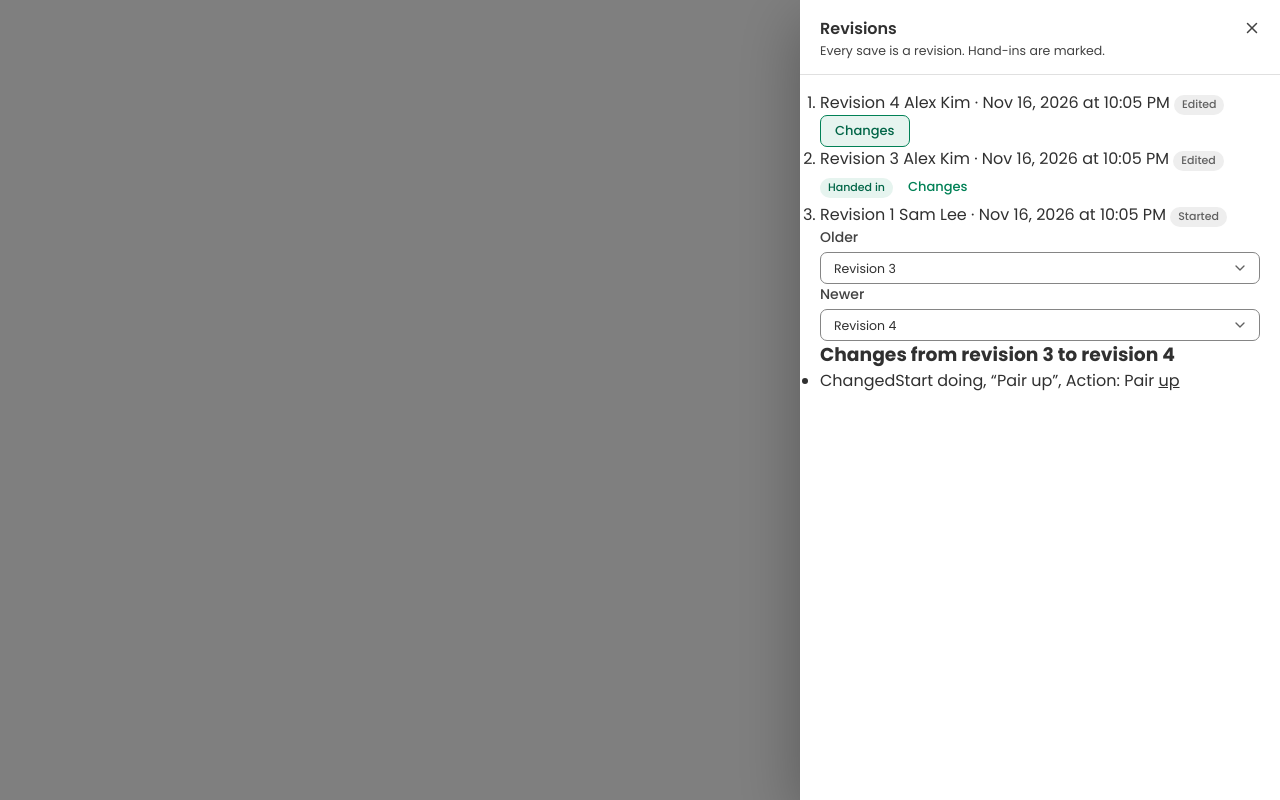
it: RevisionsDrawer › compares any two revisions picked
The image size is (1280, 800).
expect the heading "Changes from revision 3 to revision 4" is shown: met, box x1=820 y1=341 x2=1175 y2=368
Click the button named "Changes in revision 3": (938, 187) x1=893 y1=171 x2=982 y2=203
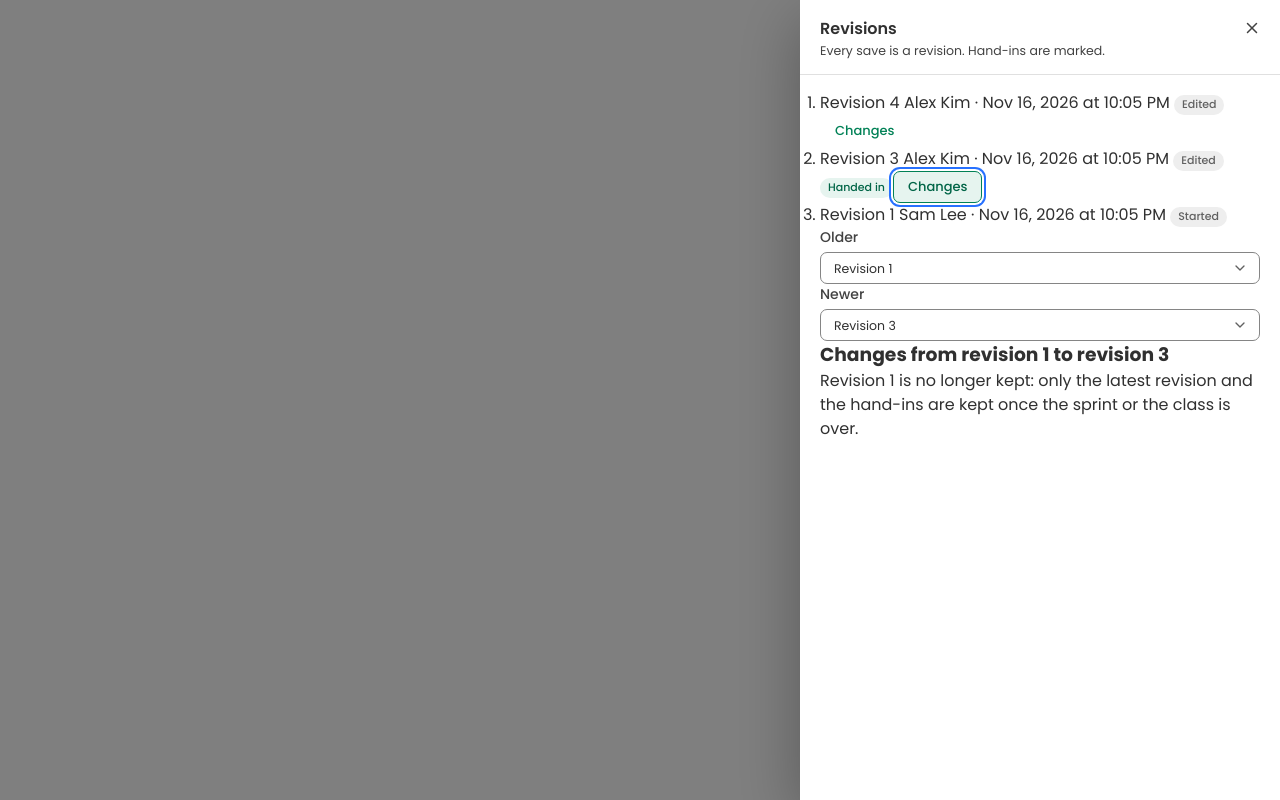
expect the heading "Changes from revision 1 to revision 3" is shown: met, box x1=820 y1=341 x2=1169 y2=368
Select "Revision 4" in the dropdown labelled "Older": (1040, 268) x1=820 y1=252 x2=1260 y2=284
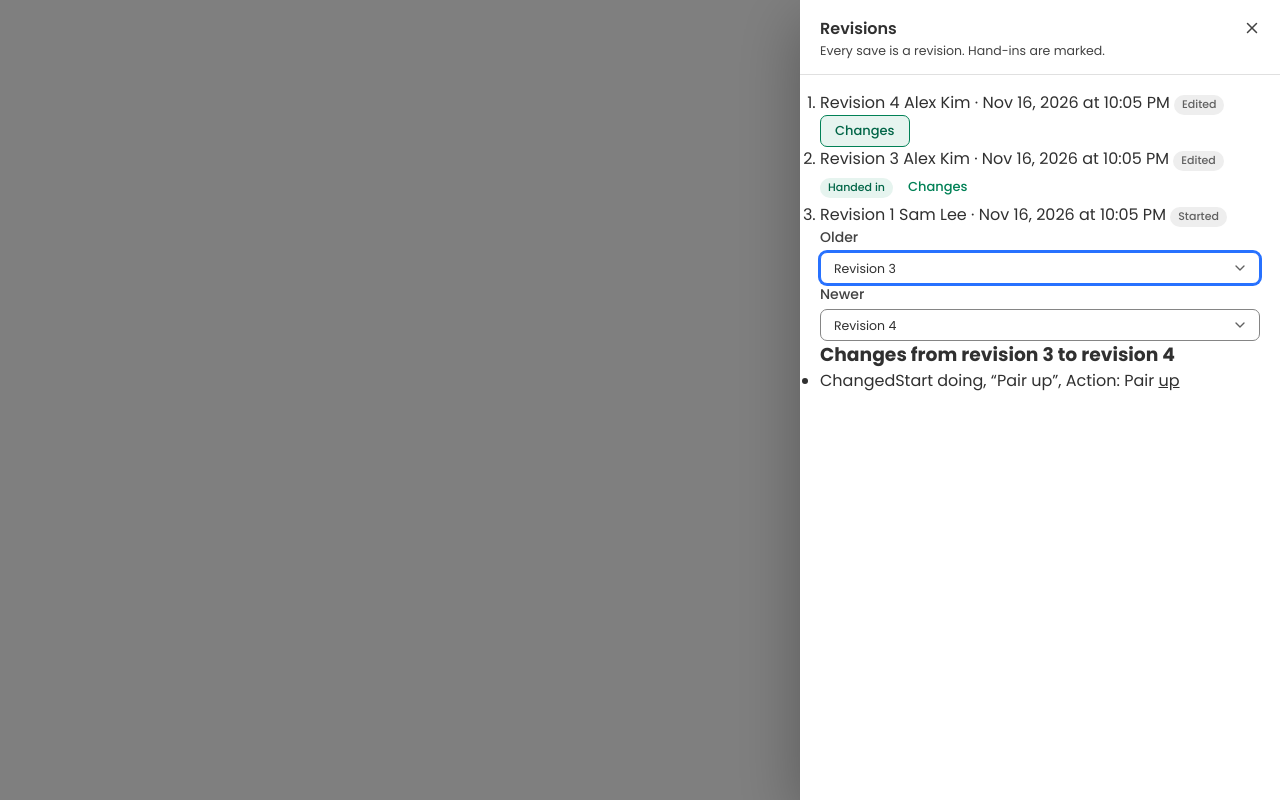
expect the heading "Changes from revision 3 to revision 4" is shown: met, box x1=820 y1=341 x2=1175 y2=368
